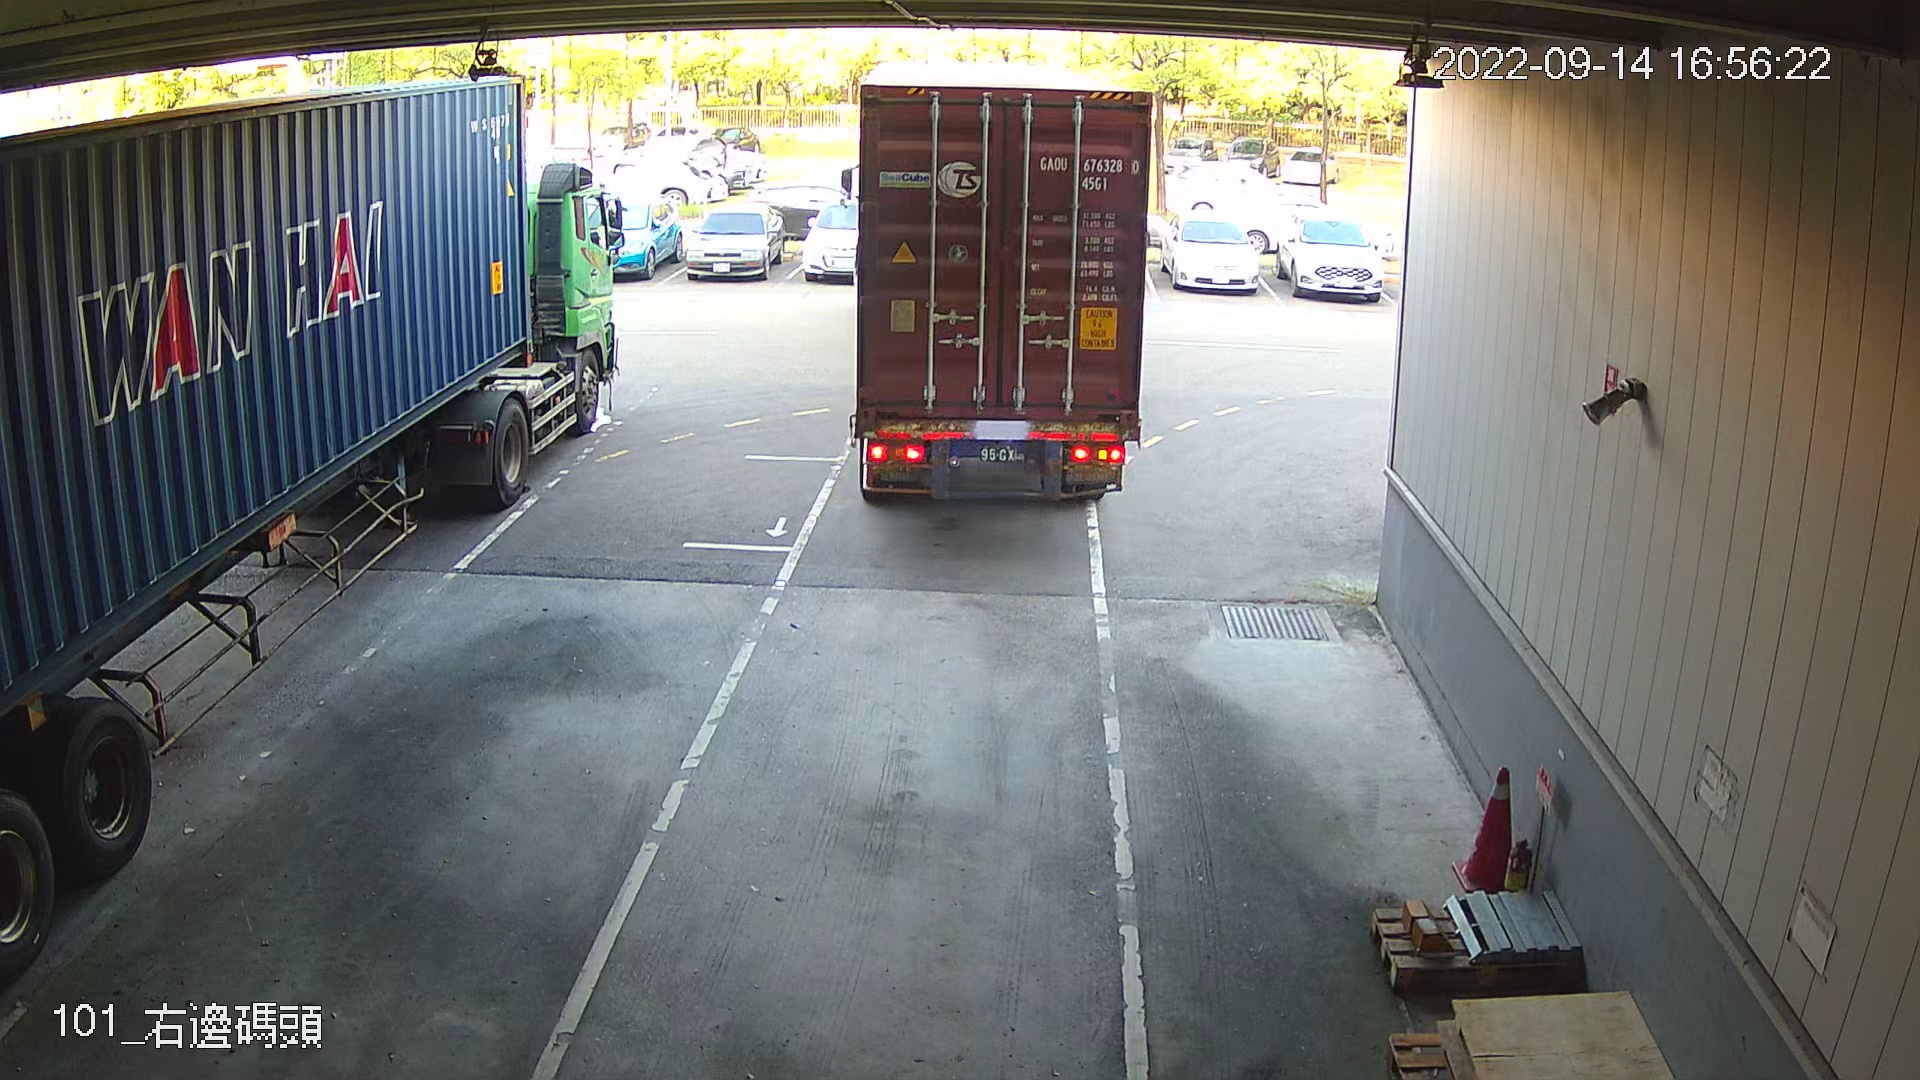container: (1034, 148, 1145, 196)
